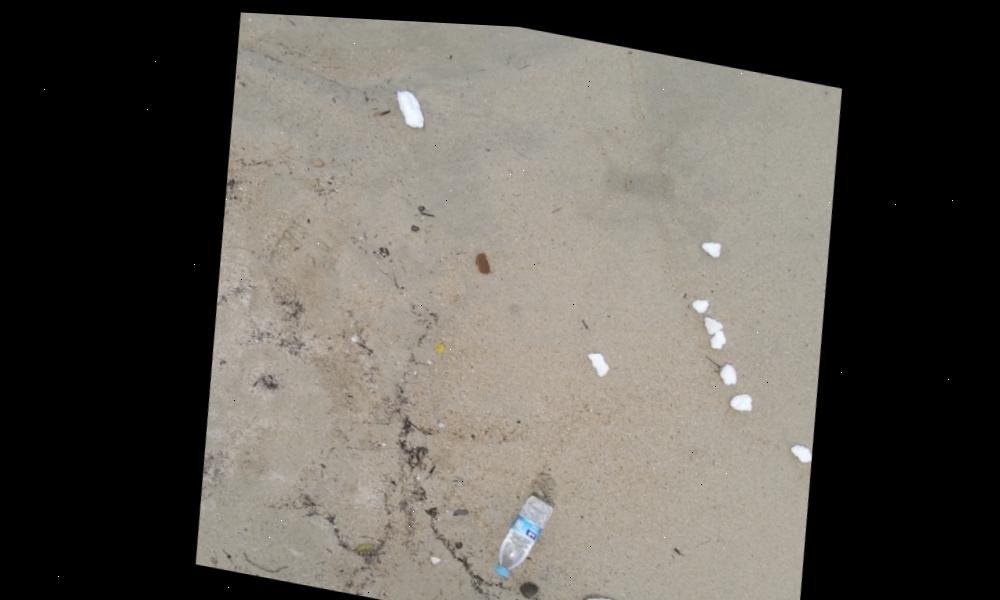plastic bottle: (480, 480, 555, 580)
styrofoam: (678, 292, 745, 379), (392, 85, 426, 125), (566, 585, 622, 600), (582, 346, 610, 370), (723, 382, 751, 404), (695, 227, 720, 251), (782, 436, 803, 449)
